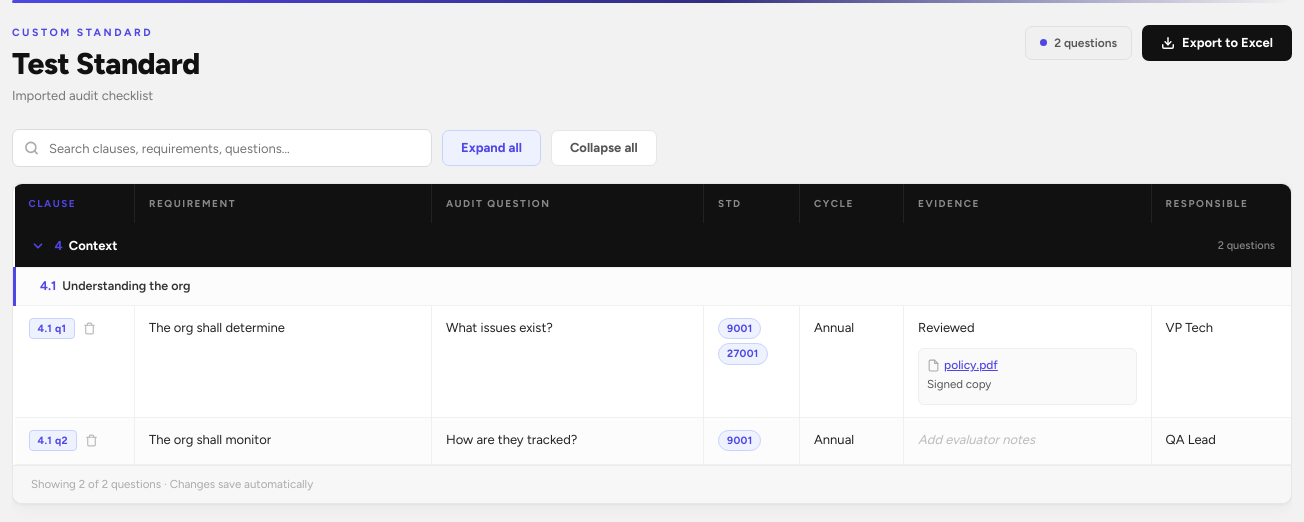
Test: ChecklistPage › filters questions by search
This screenshot has width=1304, height=522.
Type "tracked" into the search field at (222, 148), box x1=12 y1=129 x2=432 y2=167
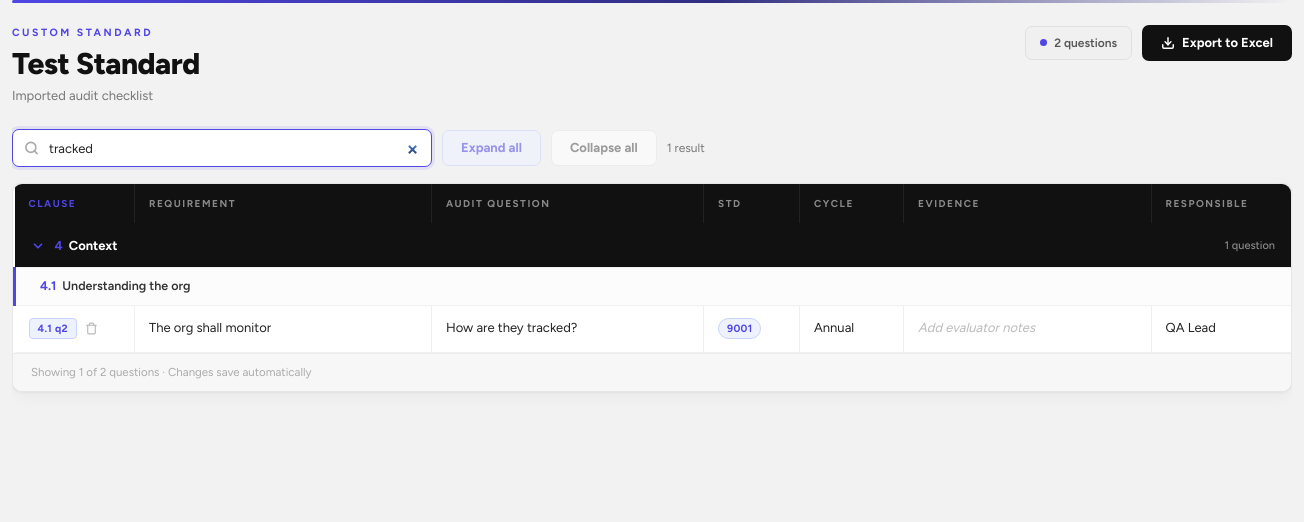
Expected: the text "How are they tracked?" is shown, x1=446 y1=320 x2=577 y2=334
Expected: the text "What issues exist?" is gone
Expected: the text "1 result" is shown, x1=667 y1=139 x2=705 y2=157
